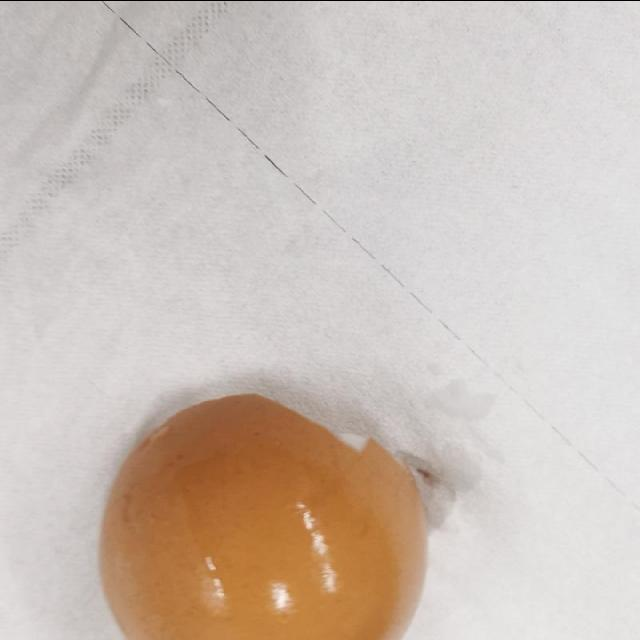egg shell: (96, 392, 426, 640)
